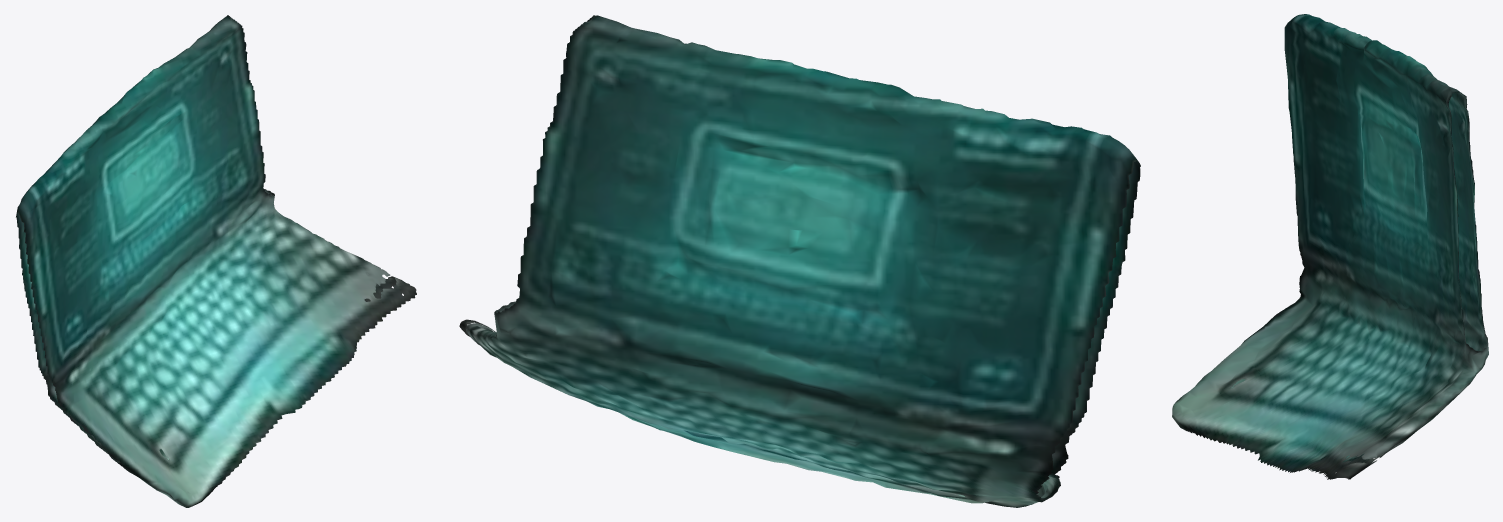
File: holoterminal.glb
The picture shows the model from 3 angles, left to right: view 1: azimuth 30°, elevation 25°; view 2: azimuth 150°, elevation 25°; view 3: azimuth 270°, elevation 25°; orthographic projection. The views are drawn at different scales.
Visible parts, largest first — view 1: geometry_0; view 2: geometry_0; view 3: geometry_0.
Part boxes in pixels (bbox=[...]): geometry_0: bbox=[16, 15, 416, 507]; geometry_0: bbox=[459, 15, 1140, 507]; geometry_0: bbox=[1172, 14, 1488, 479].
Size of the model in its own units: 1.07 by 0.8815 by 0.5993.
1 material, 1 textured.
